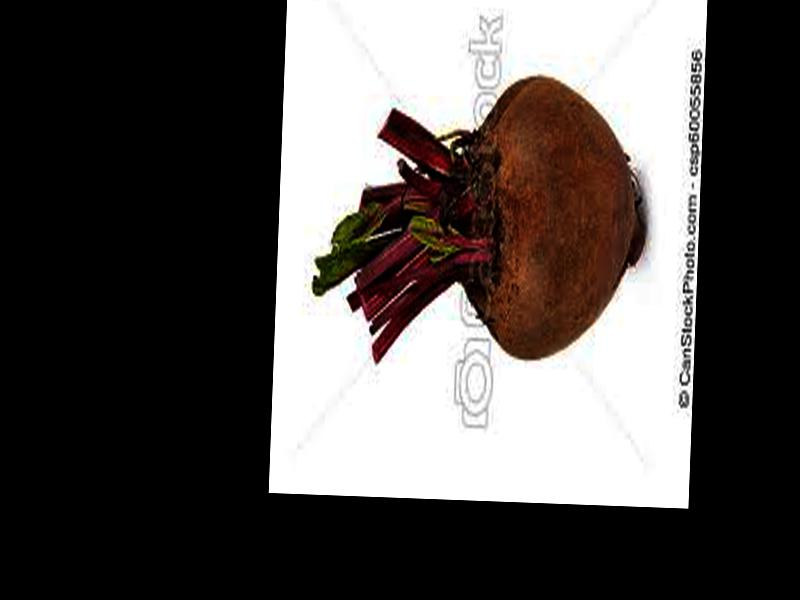Beet: (310, 65, 649, 371)
